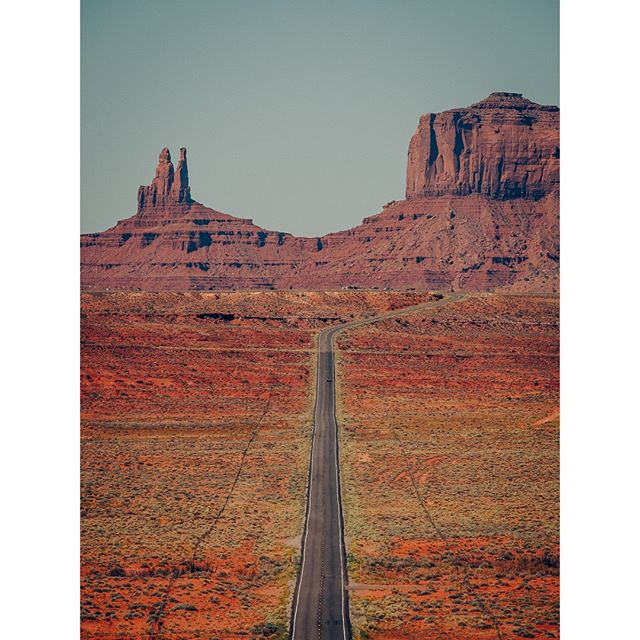mountain: (407, 84, 571, 239)
road: (284, 315, 365, 640)
rocks: (98, 136, 224, 275)
sky: (79, 1, 558, 217)
